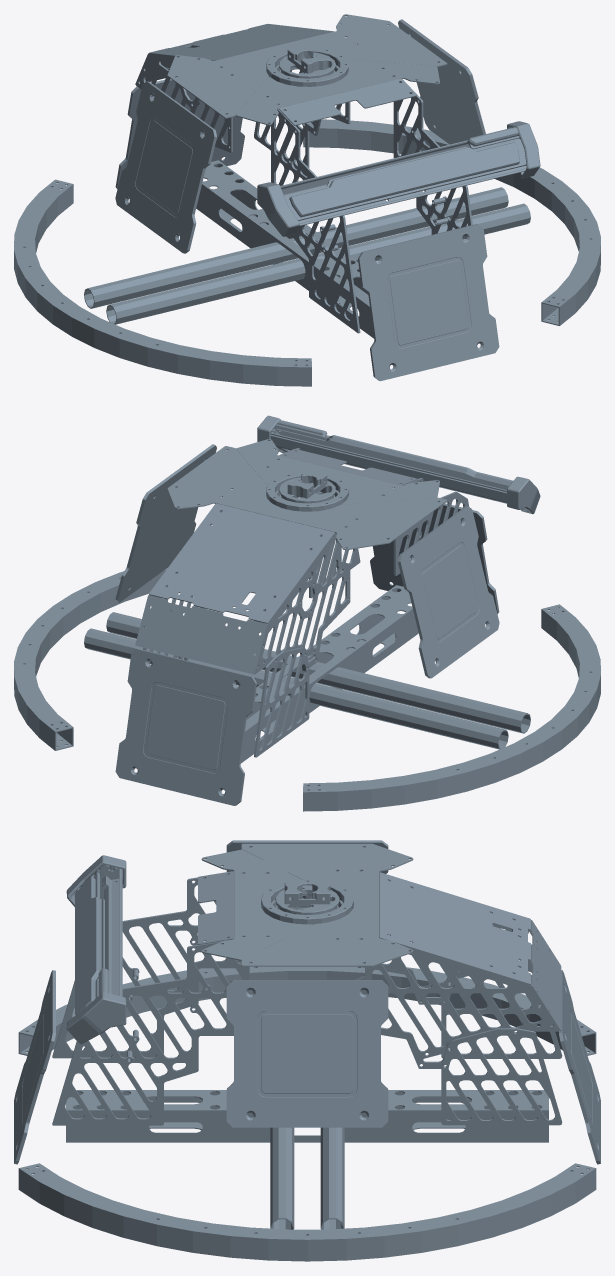
File: infantry.glb
The picture shows the model from 3 angles, top to bottom: view 1: azimuth 30°, elevation 25°; view 2: azimuth 150°, elevation 25°; view 3: azimuth 270°, elevation 25°; orthographic projection. The views are drawn at different scales.
Parts seen in each view (by area): view 1: infantry_chassis; view 2: infantry_chassis; view 3: infantry_chassis.
Boxes of the visible parts, x1,y1,x2,y2 form: infantry_chassis: (14, 14, 600, 386); infantry_chassis: (14, 415, 600, 811); infantry_chassis: (14, 840, 600, 1261).
Size of the model in its own units: 553 by 226 by 491.
